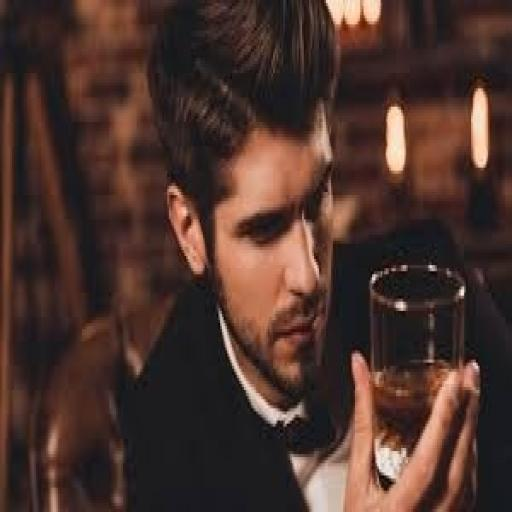drinking: (367, 259, 466, 488)
